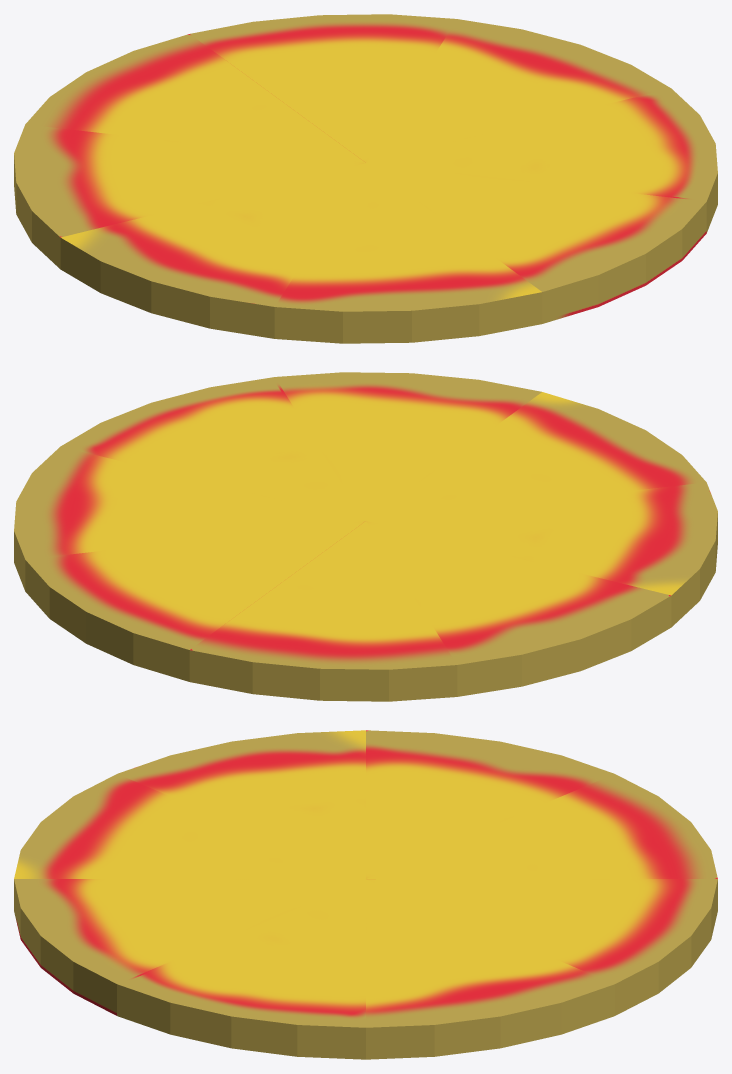
The model's file is pizzaCut.fbx.
The picture shows the model from 3 angles, top to bottom: view 1: azimuth 30°, elevation 25°; view 2: azimuth 150°, elevation 25°; view 3: azimuth 270°, elevation 25°; orthographic projection.
Parts seen in each view (by area): view 1: Slice5, Slice6, Slice4, Slice7, Slice3, Slice8, Slice2, Slice1; view 2: Slice8, Slice7, Slice1, Slice6, Slice2, Slice5, Slice3, Slice4; view 3: Slice3, Slice2, Slice1, Slice4, Slice7, Slice6, Slice5, Slice8.
Part boxes in pixels (left/top/right/bottom): Slice5: left=274, top=163, right=542, bottom=343; Slice6: left=60, top=163, right=365, bottom=338; Slice4: left=366, top=163, right=706, bottom=323; Slice7: left=14, top=124, right=364, bottom=269; Slice3: left=367, top=88, right=717, bottom=232; Slice8: left=25, top=34, right=365, bottom=162; Slice2: left=366, top=19, right=670, bottom=162; Slice1: left=190, top=14, right=456, bottom=162; Slice8: left=189, top=521, right=457, bottom=701; Slice7: left=366, top=521, right=671, bottom=696; Slice1: left=25, top=521, right=365, bottom=681; Slice6: left=367, top=482, right=717, bottom=627; Slice2: left=14, top=446, right=364, bottom=590; Slice5: left=366, top=392, right=706, bottom=520; Slice3: left=61, top=377, right=365, bottom=520; Slice4: left=275, top=372, right=541, bottom=520; Slice3: left=117, top=879, right=365, bottom=1059; Slice2: left=366, top=879, right=614, bottom=1059; Slice1: left=366, top=879, right=717, bottom=1015; Slice4: left=14, top=879, right=365, bottom=1015; Slice7: left=366, top=730, right=614, bottom=878; Slice6: left=117, top=730, right=365, bottom=878; Slice5: left=14, top=774, right=364, bottom=878; Slice8: left=367, top=774, right=717, bottom=878.
Bounding box in the file's own units: 71.25 × 3.56 × 71.25.
